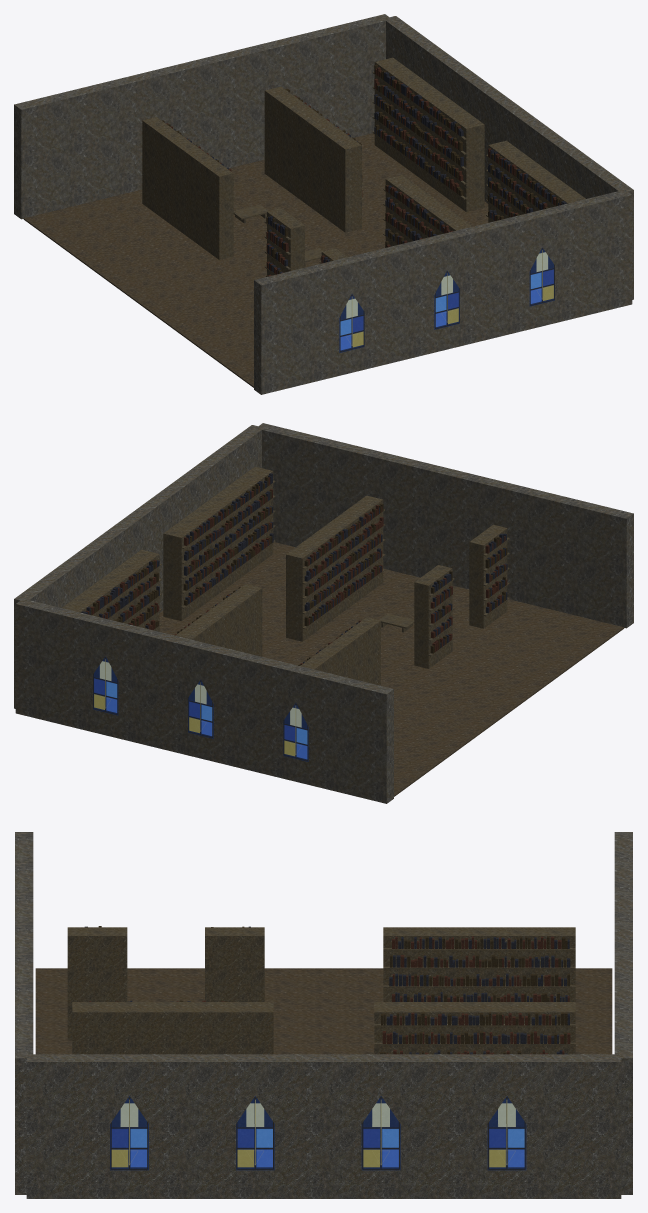
File: library.gltf
3 renders of one model, top to bottom at view 1: azimuth 30°, elevation 25°; view 2: azimuth 150°, elevation 25°; view 3: azimuth 270°, elevation 25°, orthographic. The views are drawn at different scales.
Parts seen in each view (by area): view 1: library; view 2: library; view 3: library.
Boxes of the visible parts, <box> form: library: <box>14,14,633,394</box>; library: <box>14,423,633,803</box>; library: <box>15,832,632,1198</box>.
Size of the model in its own units: 23.85 by 6.6 by 27.1.
